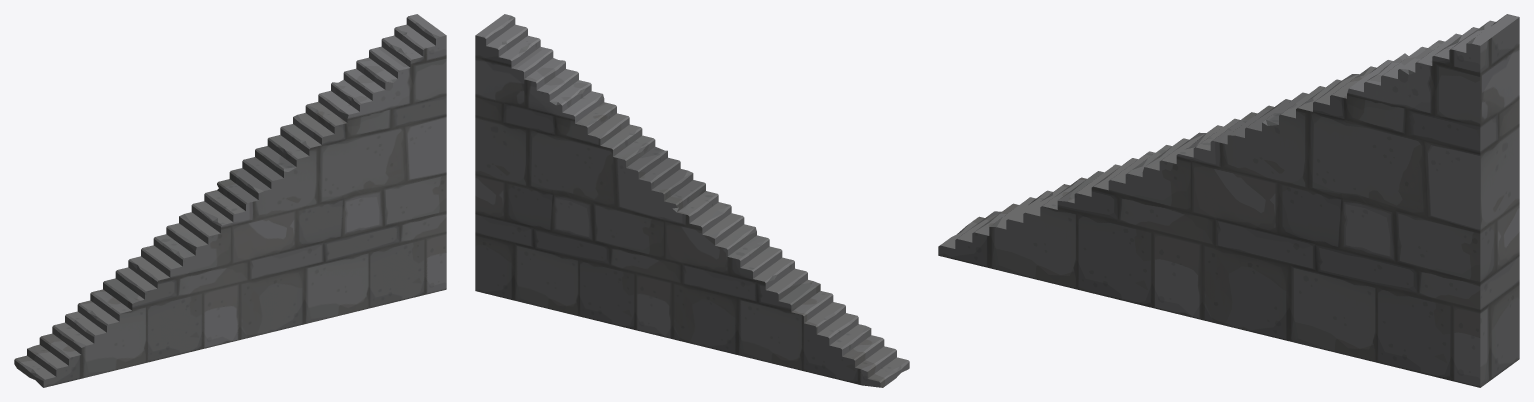
The model's file is SM_Bld_Stairs_L_01.fbx.
The picture shows the model from 3 angles, left to right: view 1: azimuth 30°, elevation 25°; view 2: azimuth 150°, elevation 25°; view 3: azimuth 330°, elevation 25°; orthographic projection. The views are drawn at different scales.
Parts seen in each view (by area): view 1: SM_Bld_Stairs_L_01; view 2: SM_Bld_Stairs_L_01; view 3: SM_Bld_Stairs_L_01.
Part boxes in pixels (x1,y1,x2,y2): SM_Bld_Stairs_L_01: (14,14,446,387); SM_Bld_Stairs_L_01: (475,14,909,387); SM_Bld_Stairs_L_01: (938,14,1519,387).
Bounding box in the file's own units: 995 × 600 × 125.
1 material, 1 textured.
